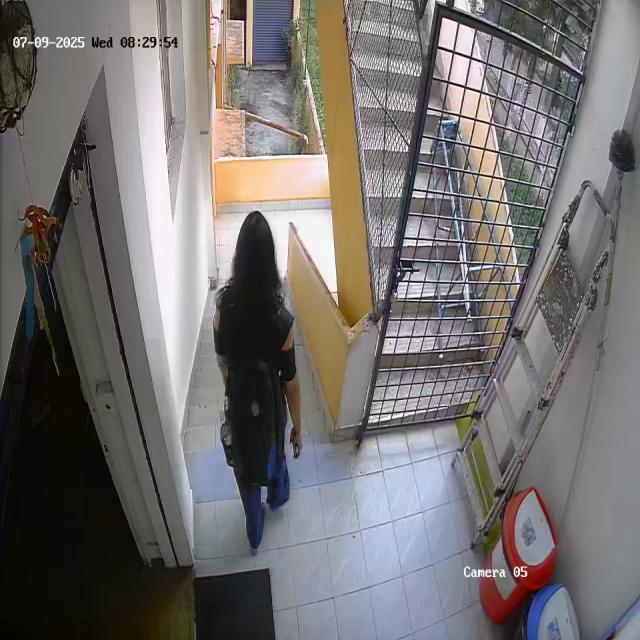person: (205, 211, 308, 550)
